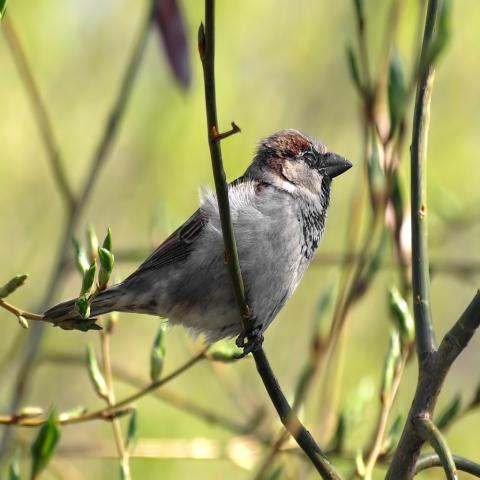bird: (35, 126, 354, 361)
